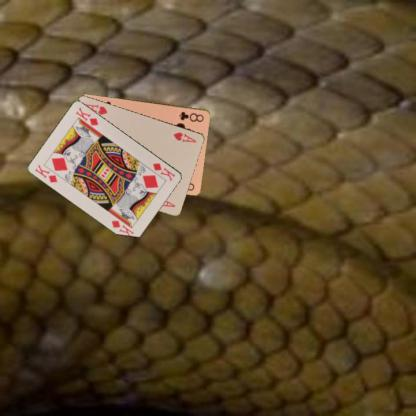8c: (177, 109, 205, 123)
Ah: (171, 129, 198, 144)
Kd: (150, 160, 177, 183), (32, 162, 59, 184)
